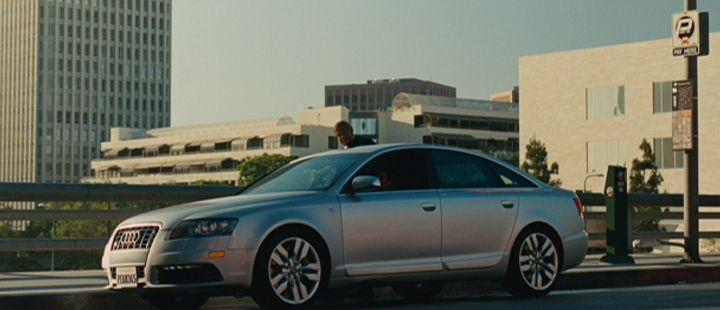Audi: (117, 229, 146, 248)
